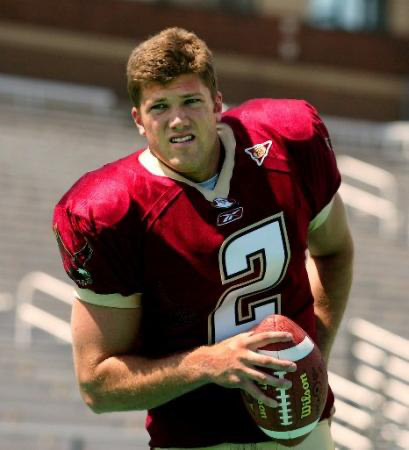Face: (136, 82, 218, 173)
